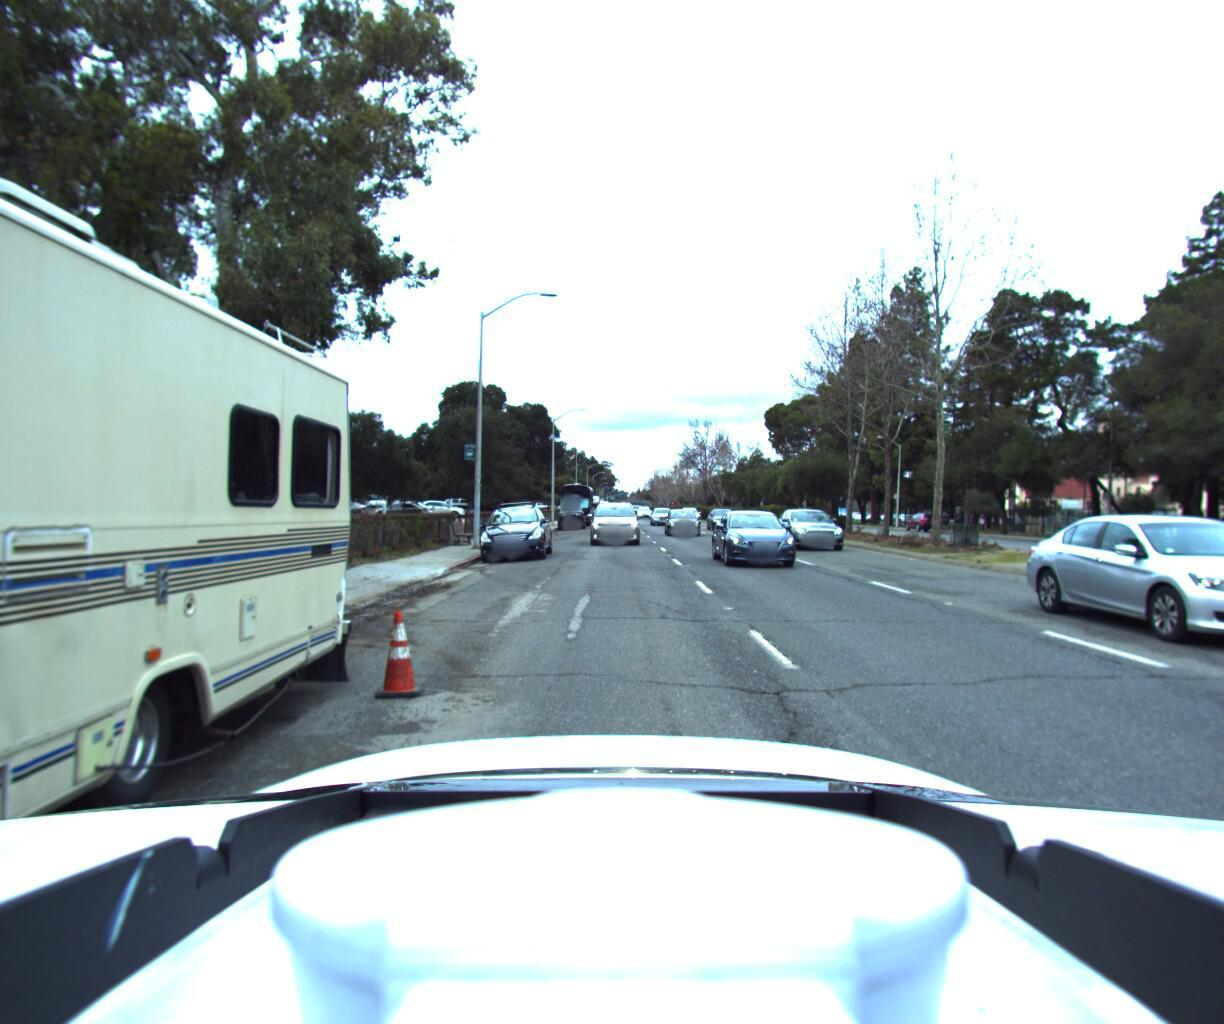bus: (552, 479, 594, 529)
car: (1053, 492, 1224, 695), (712, 508, 809, 575), (471, 499, 555, 568), (775, 505, 859, 555), (583, 499, 641, 548), (665, 508, 706, 538), (372, 503, 430, 520), (416, 500, 467, 519), (554, 501, 585, 531), (646, 506, 670, 527)
